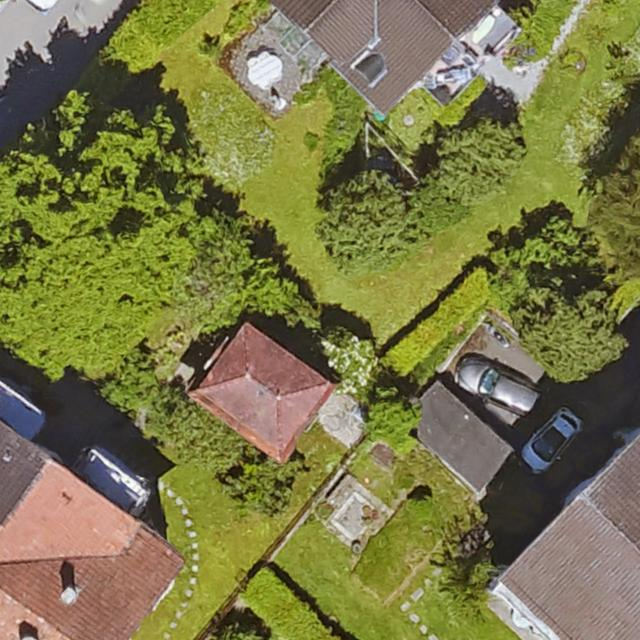tree: (0, 108, 214, 366), (318, 170, 417, 269), (523, 287, 624, 381), (491, 223, 588, 316), (589, 126, 640, 281), (437, 551, 497, 619), (229, 462, 292, 516), (364, 391, 420, 446), (197, 624, 273, 640)
